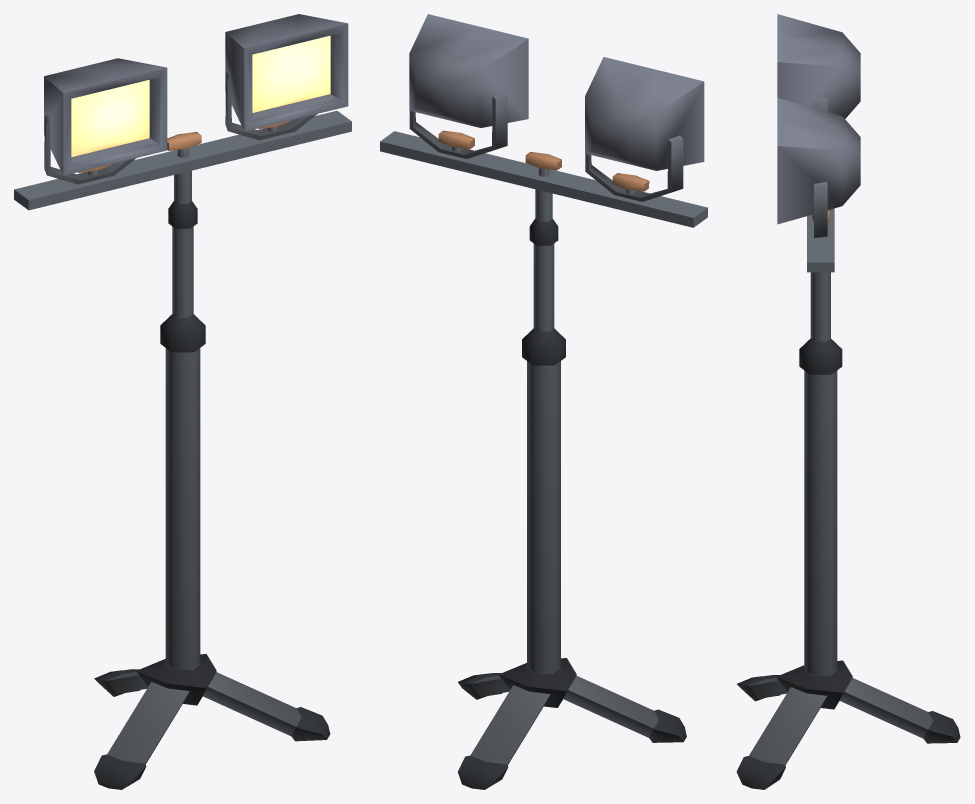
Rendered from Construction Lamp.fbx.
3 renders of one model, left to right at view 1: azimuth 30°, elevation 25°; view 2: azimuth 150°, elevation 25°; view 3: azimuth 270°, elevation 25°, orthographic. The views are drawn at different scales.
Parts seen in each view (by area): view 1: Construction Lamp; view 2: Construction Lamp; view 3: Construction Lamp.
Part boxes in pixels (left/top/right/bottom): Construction Lamp: left=14, top=14, right=351, bottom=789; Construction Lamp: left=380, top=14, right=707, bottom=789; Construction Lamp: left=736, top=14, right=960, bottom=789.
Bounding box in the file's own units: 1.58 × 3.25 × 1.
1 material, 1 textured.
